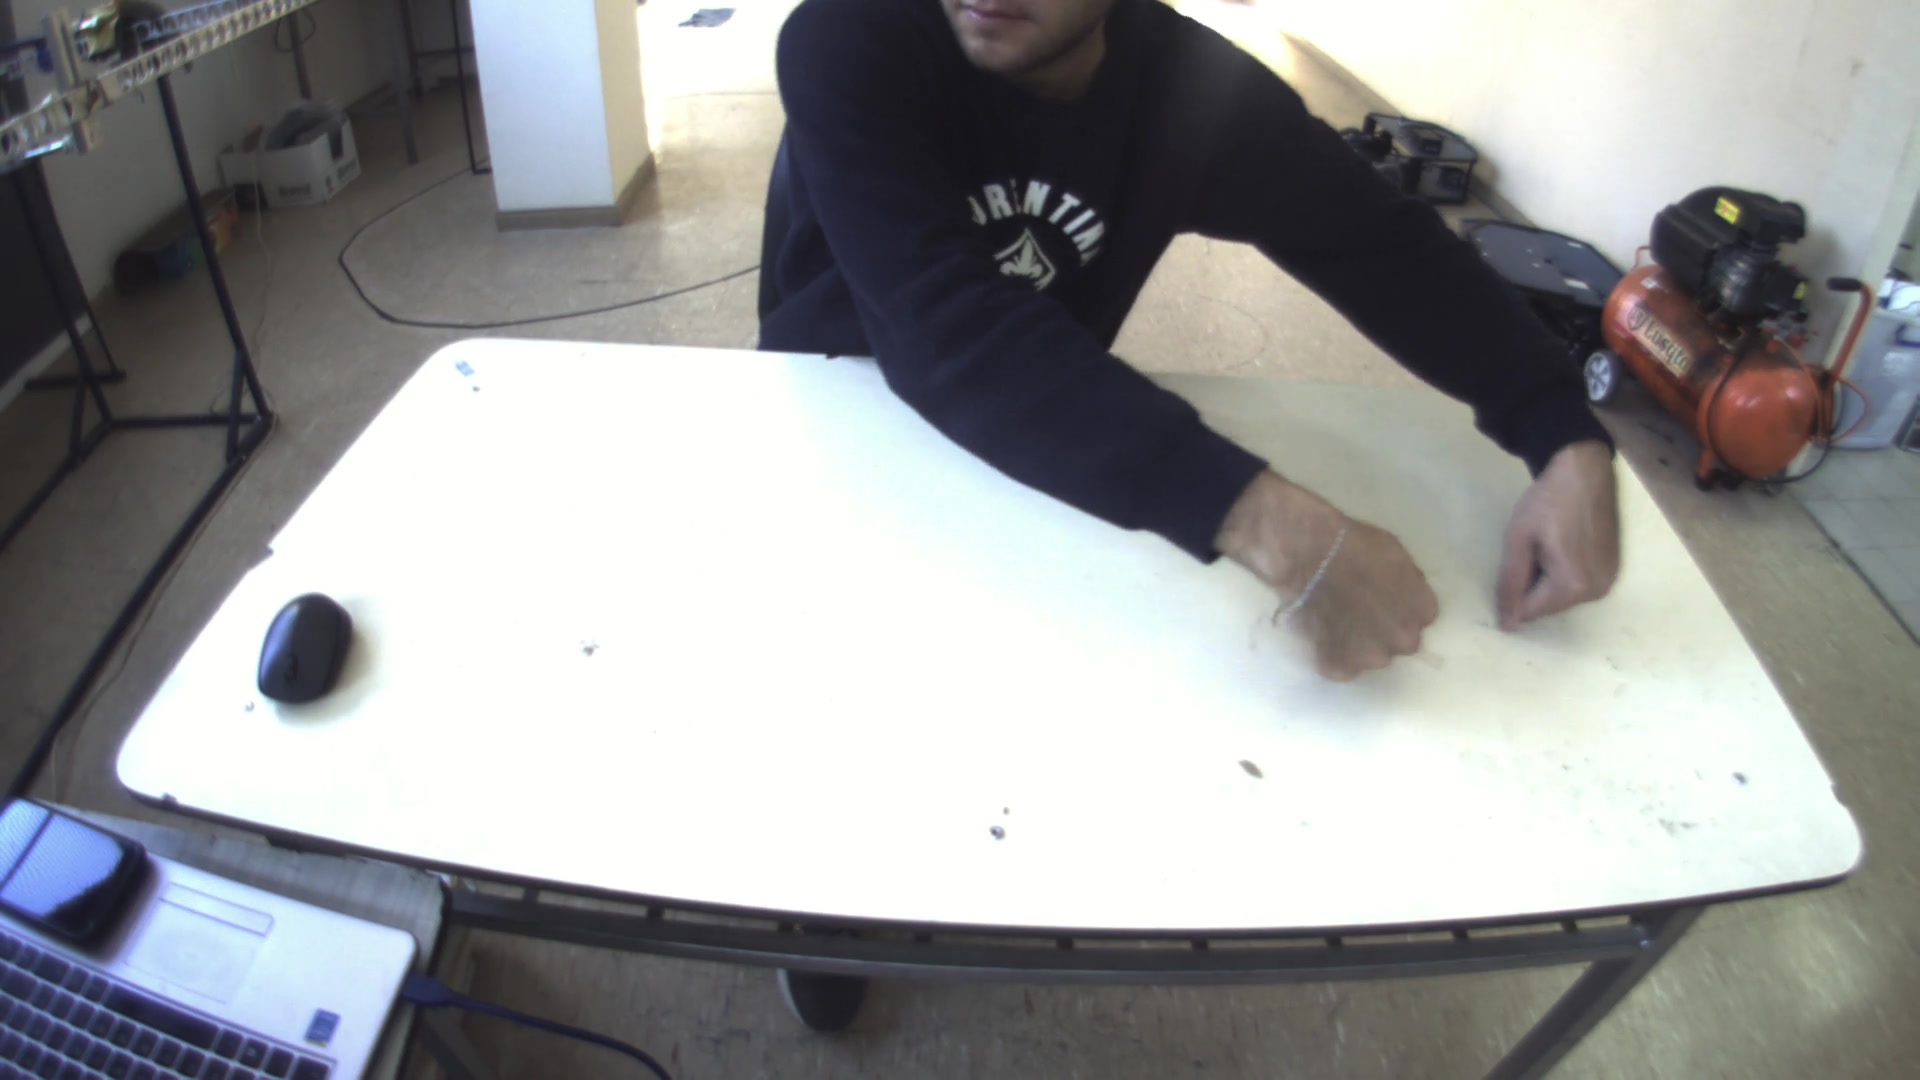hand: (1257, 487, 1451, 692), (1472, 427, 1635, 636)
